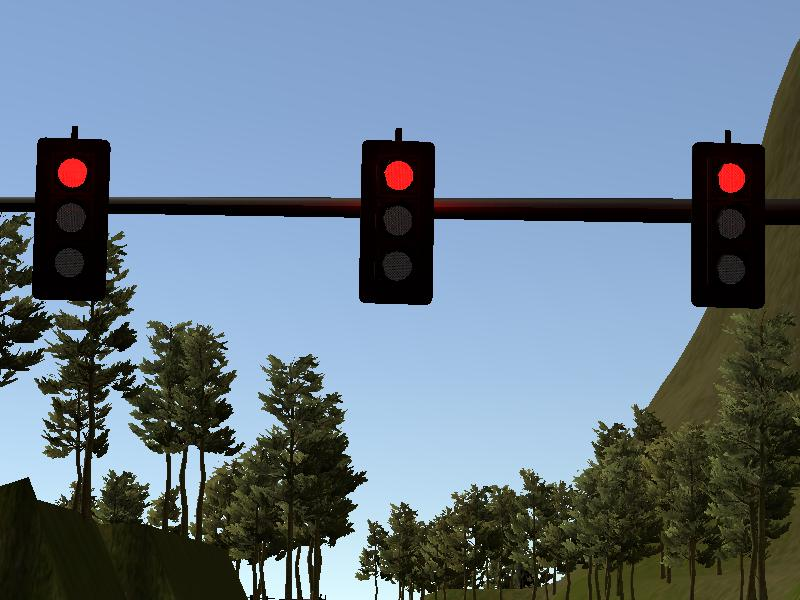red: (688, 141, 768, 309), (32, 136, 110, 303), (360, 138, 434, 306)
